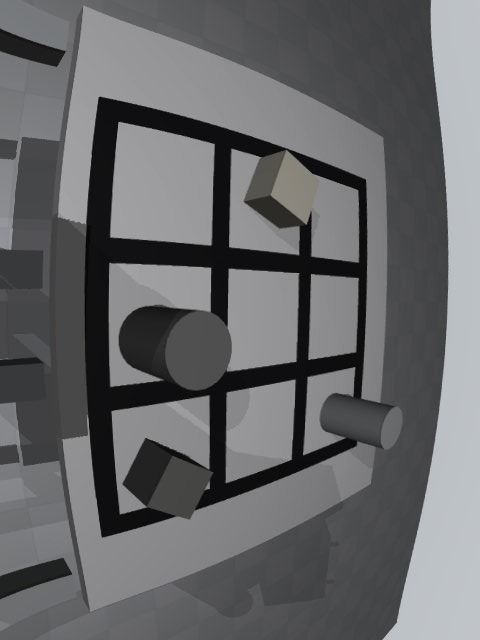can: (319, 393, 403, 450)
cube: (123, 438, 213, 520)
cylinder: (119, 307, 232, 391)
foam: (244, 150, 320, 228)
